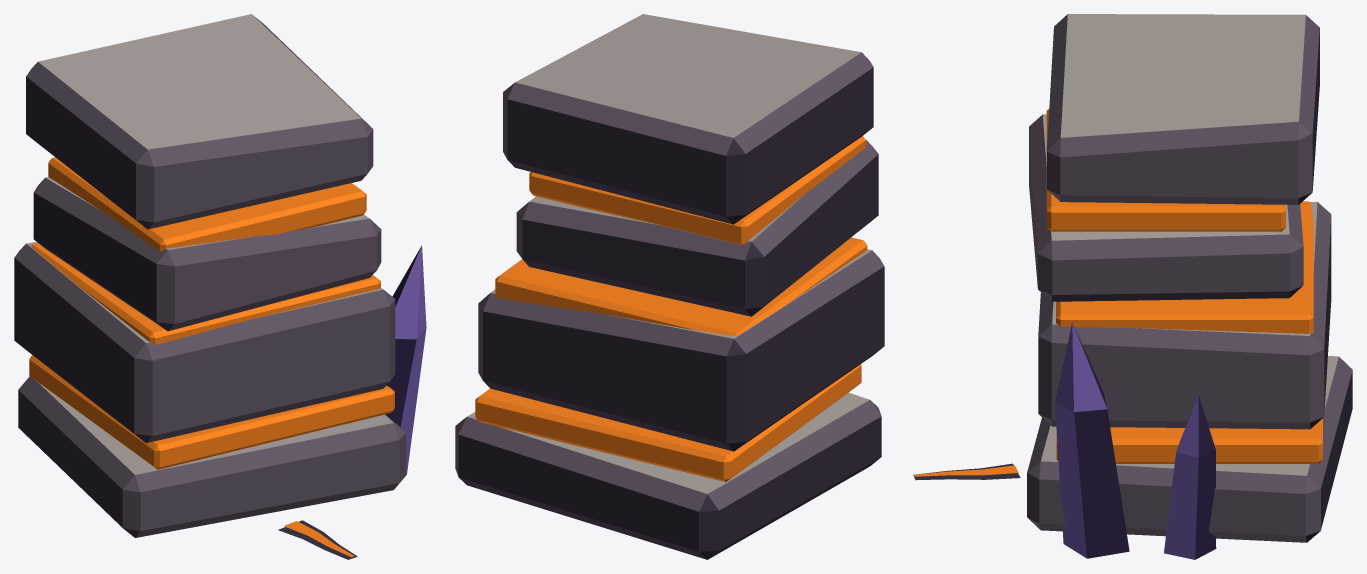
Rendered from BasaltSlabsA.fbx.
3 views of the same model, side by side, from view 1: azimuth 30°, elevation 25°; view 2: azimuth 150°, elevation 25°; view 3: azimuth 270°, elevation 25° (orthographic). The views are drawn at different scales.
Visible parts, largest first — view 1: BasaltSlabsA; view 2: BasaltSlabsA; view 3: BasaltSlabsA.
Part boxes in pixels (x1,y1,x2,y2): BasaltSlabsA: [14, 14, 426, 559]; BasaltSlabsA: [455, 14, 884, 559]; BasaltSlabsA: [913, 14, 1352, 559].
Bounding box in the file's own units: 1.56 × 1.97 × 1.9.
2 materials, 2 textured.
